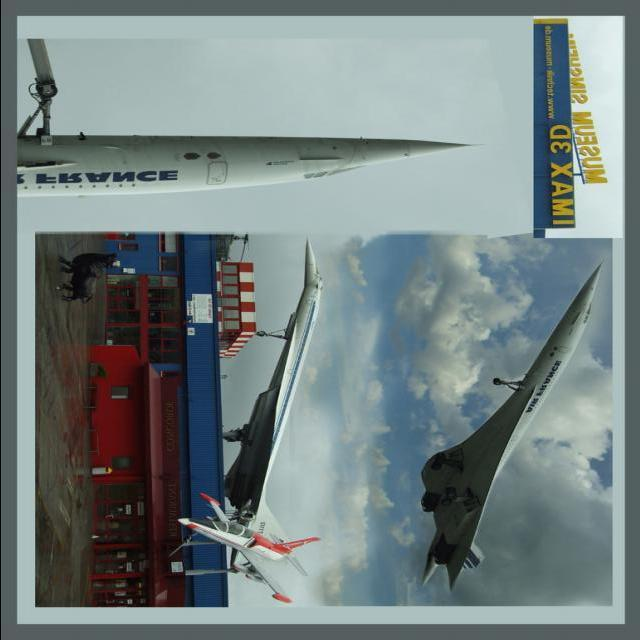missile: (8, 82, 487, 199)
